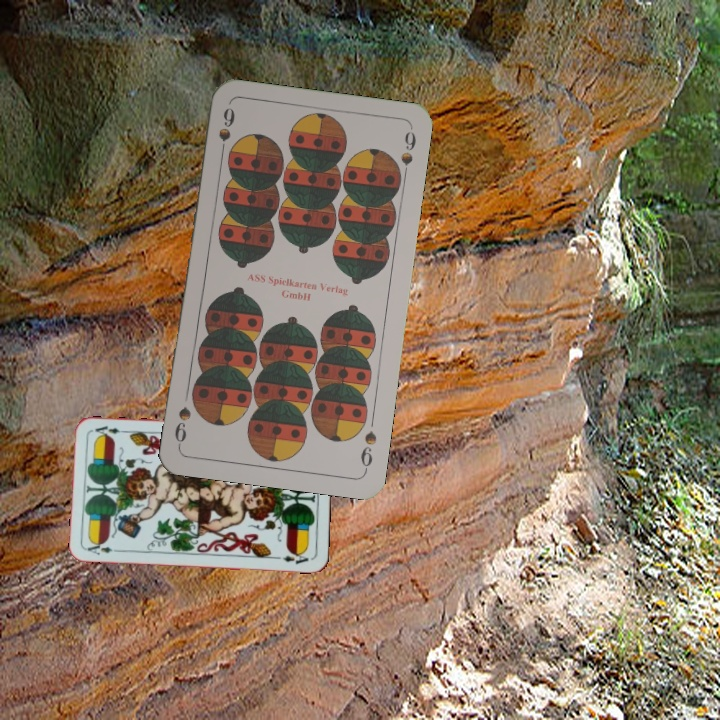EA: (83, 540, 124, 558)
S9: (214, 103, 238, 162), (356, 426, 380, 474)
